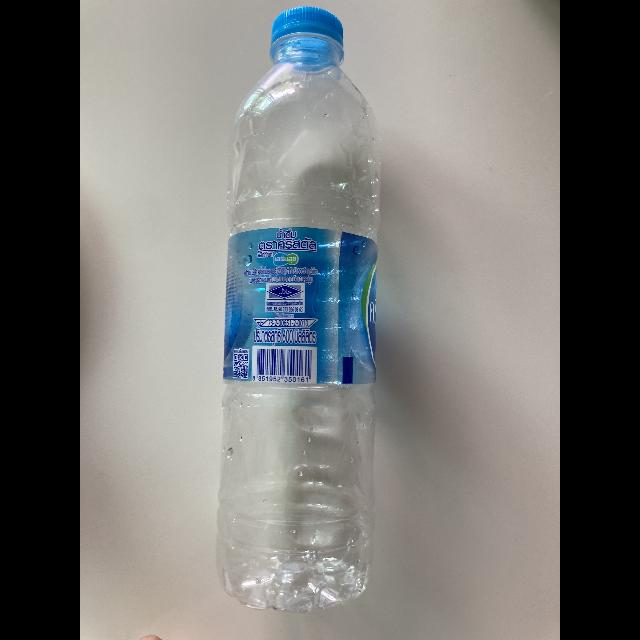plastic_bottle: (212, 2, 384, 614)
